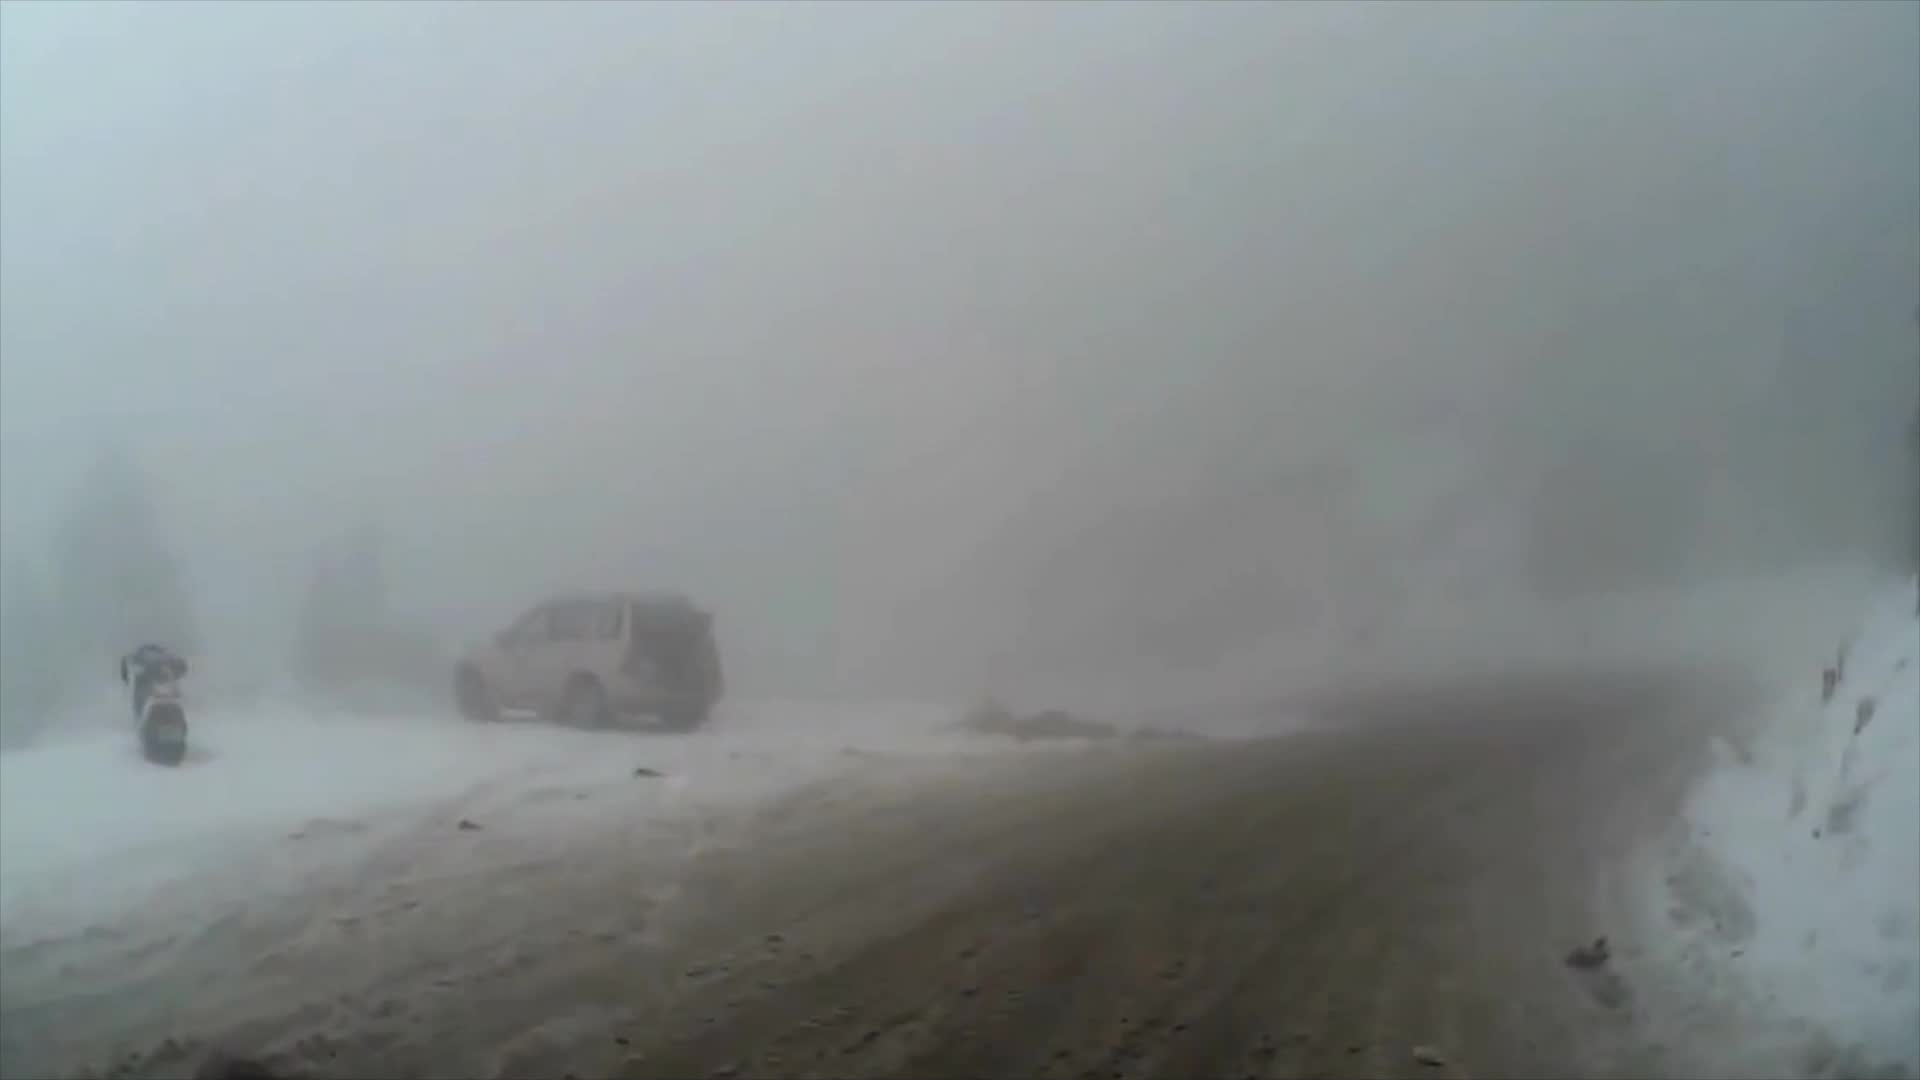vehicle: (446, 591, 723, 744)
